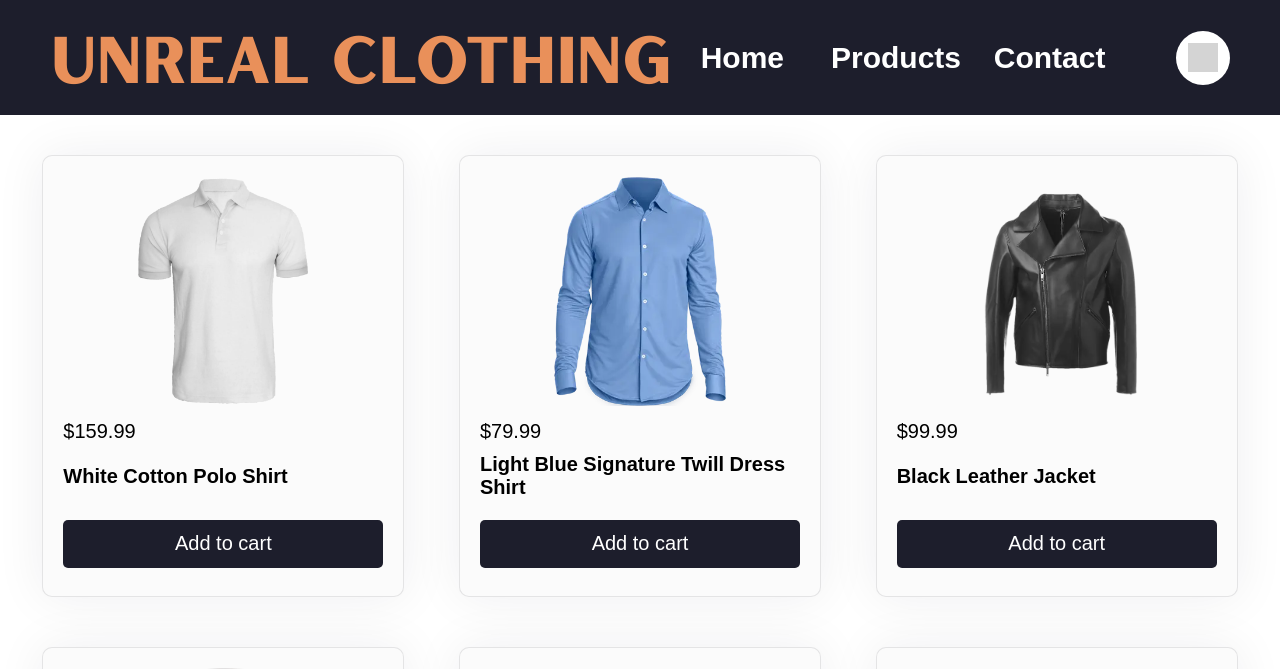
Test: Header component › changes to contact page when contact button is clicked
Click the button "Contact".
click(1050, 58)  # box [973,40,1126,76]
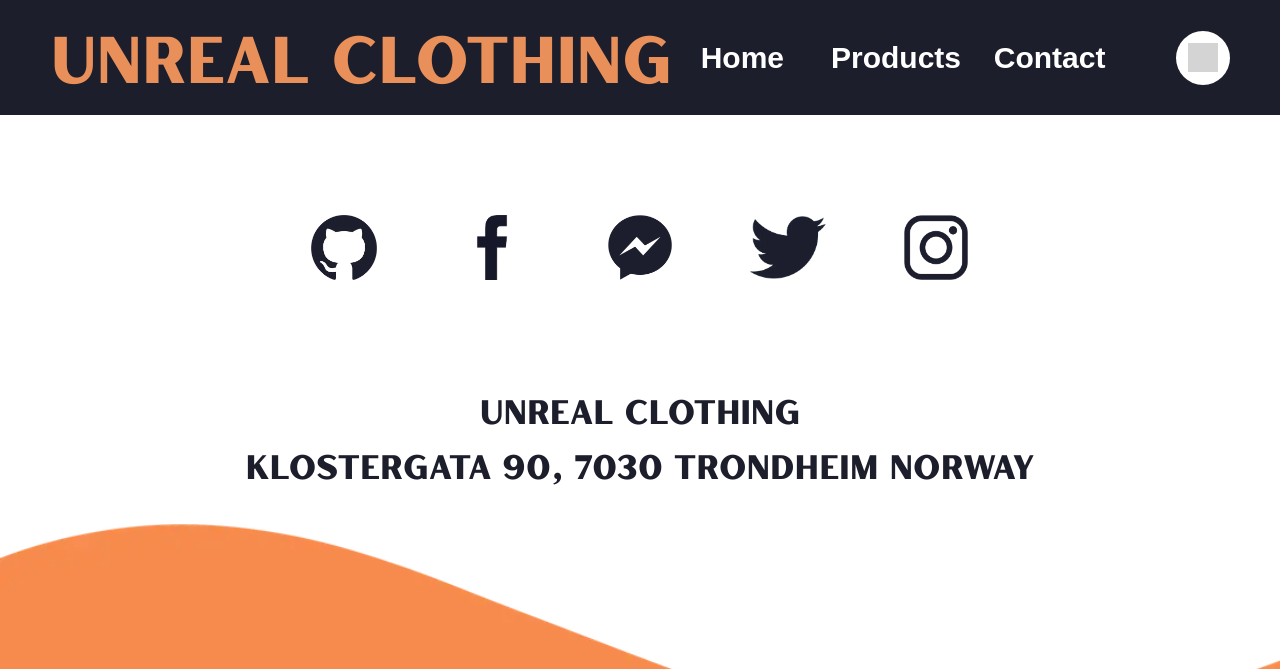
Check: the text "Unreal Clothing" is shown, box [480,389,800,433]
